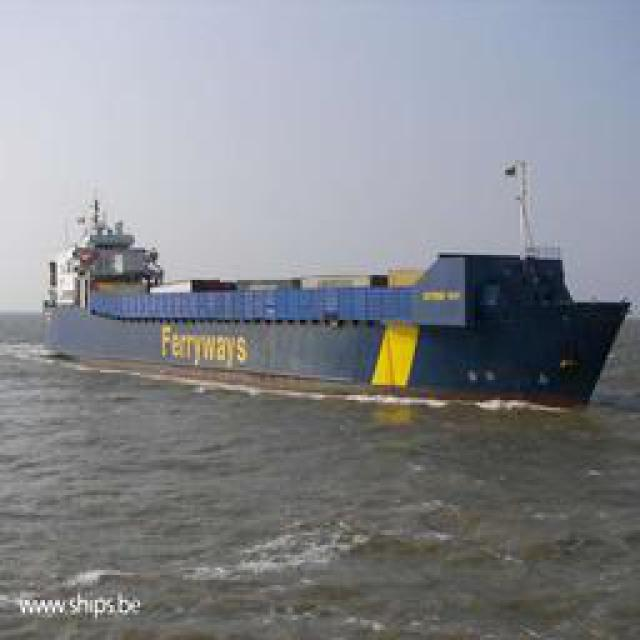Ship: (52, 171, 622, 409)
